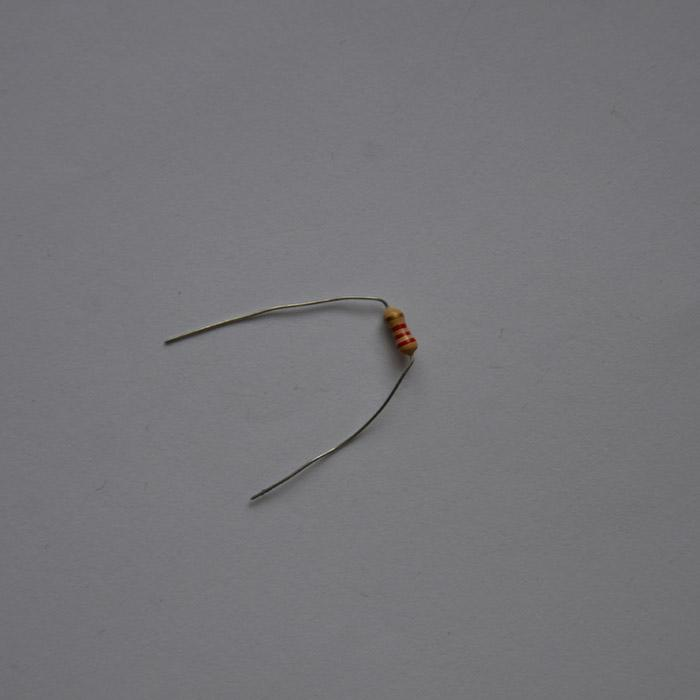resistor: (383, 306, 417, 355)
